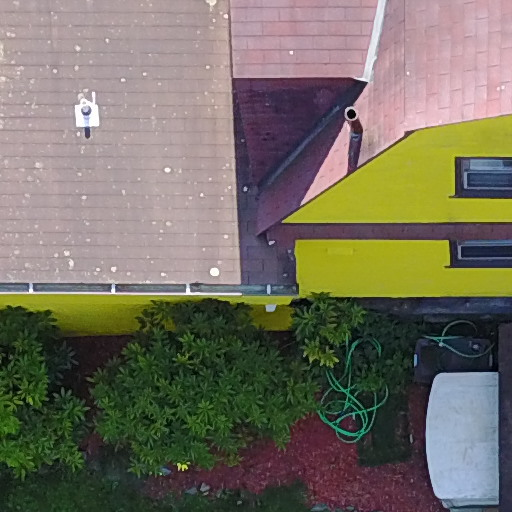container: (426, 361, 512, 510)
